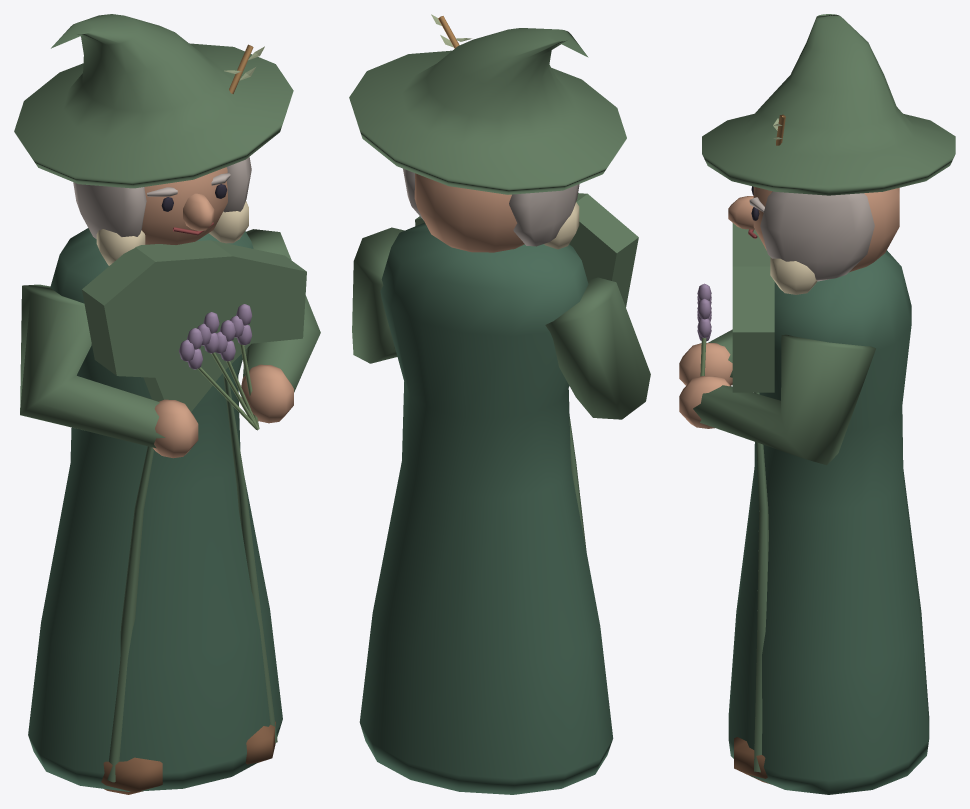
The model's file is vendor_herbalist.glb.
3 views of the same model, side by side, from view 1: azimuth 30°, elevation 25°; view 2: azimuth 150°, elevation 25°; view 3: azimuth 270°, elevation 25° (orthographic). The views are drawn at different scales.
Visible parts, largest first — view 1: vendor_herbalist; view 2: vendor_herbalist; view 3: vendor_herbalist.
Part boxes in pixels (bbox=[...]): vendor_herbalist: bbox=[14, 14, 320, 794]; vendor_herbalist: bbox=[349, 14, 650, 794]; vendor_herbalist: bbox=[679, 14, 955, 794].
Size of the model in its own units: 0.7 by 1.7 by 0.6.
